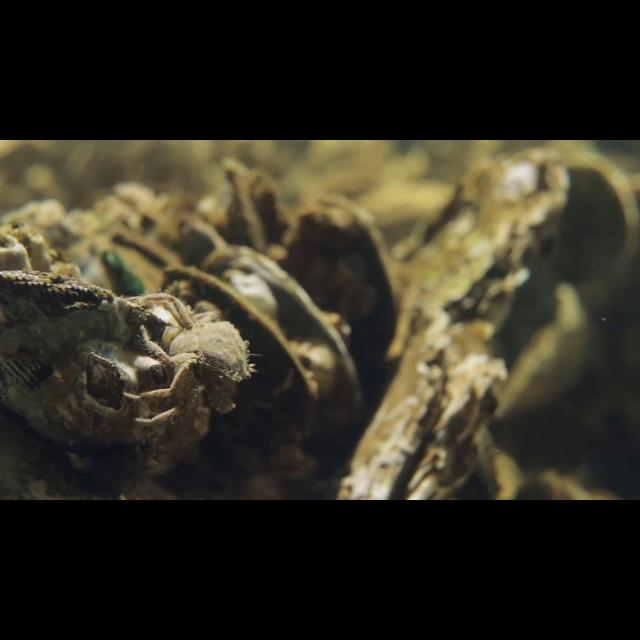Oyster-Open: (163, 244, 364, 443)
